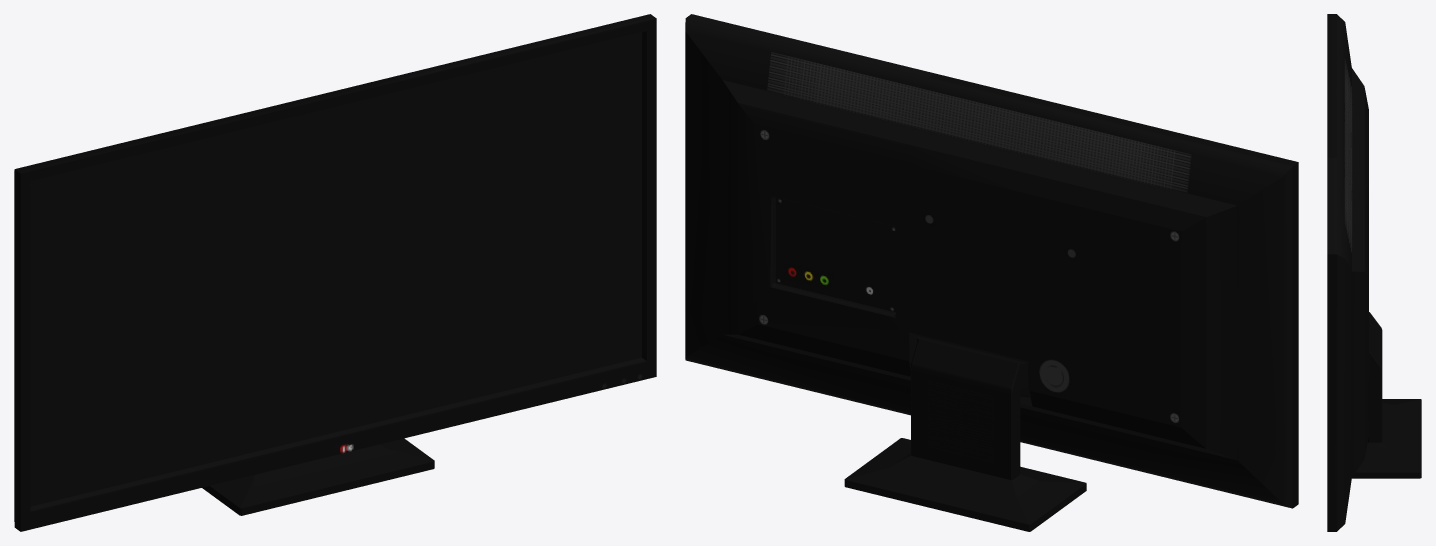
3 renders of one model, left to right at view 1: azimuth 30°, elevation 25°; view 2: azimuth 150°, elevation 25°; view 3: azimuth 270°, elevation 25°, orthographic. The views are drawn at different scales.
Parts seen in each view (by area): view 1: screen, led_tv_phong1_0.023, led_tv_phong1_0.041, led_tv_phong1_0.011, led_tv_phong1_0.024, led_tv_phong1_0.014, led_tv_phong1_0.025, led_tv_phong1_0.046; view 2: led_tv_phong1_0.012, led_tv_phong1_0.018, led_tv_phong1_0.015, led_tv_phong1_0.016, led_tv_phong1_0.017, led_tv_phong1_0.034, led_tv_phong1_0.054, led_tv_phong1_0.019, led_tv_phong1_0.041, led_tv_phong1_0.022, led_tv_phong1_0.011, led_tv_phong1_0.021 (+5 smaller); view 3: led_tv_phong1_0.017, led_tv_phong1_0.018, led_tv_phong1_0.041, led_tv_phong1_0.013, led_tv_phong1_0.019, led_tv_phong1_0.011, led_tv_phong1_0.012, led_tv_phong1_0.037, led_tv_phong1_0.034, led_tv_phong1_0.049, led_tv_phong1_0.071, led_tv.
Part boxes in pixels (bbox=[...]): screen: bbox=[30, 32, 641, 506]; led_tv_phong1_0.023: bbox=[20, 18, 656, 531]; led_tv_phong1_0.041: bbox=[210, 438, 434, 508]; led_tv_phong1_0.011: bbox=[15, 14, 656, 173]; led_tv_phong1_0.024: bbox=[30, 357, 646, 511]; led_tv_phong1_0.014: bbox=[14, 169, 20, 531]; led_tv_phong1_0.025: bbox=[642, 31, 646, 360]; led_tv_phong1_0.046: bbox=[242, 461, 433, 515]; led_tv_phong1_0.012: bbox=[738, 103, 1205, 427]; led_tv_phong1_0.018: bbox=[685, 18, 1292, 205]; led_tv_phong1_0.015: bbox=[1206, 167, 1292, 508]; led_tv_phong1_0.016: bbox=[685, 334, 1291, 508]; led_tv_phong1_0.017: bbox=[685, 31, 737, 357]; led_tv_phong1_0.034: bbox=[911, 339, 1018, 479]; led_tv_phong1_0.054: bbox=[776, 197, 895, 312]; led_tv_phong1_0.019: bbox=[723, 80, 1236, 216]; led_tv_phong1_0.041: bbox=[845, 438, 1086, 524]; led_tv_phong1_0.022: bbox=[1181, 217, 1206, 448]; led_tv_phong1_0.011: bbox=[686, 14, 1298, 166]; led_tv_phong1_0.021: bbox=[1030, 391, 1205, 448]; led_tv_phong1_0.017: bbox=[1337, 254, 1364, 531]; led_tv_phong1_0.018: bbox=[1337, 14, 1351, 271]; led_tv_phong1_0.041: bbox=[1356, 399, 1421, 472]; led_tv_phong1_0.013: bbox=[1327, 254, 1336, 531]; led_tv_phong1_0.019: bbox=[1352, 68, 1364, 271]; led_tv_phong1_0.011: bbox=[1327, 14, 1336, 254]; led_tv_phong1_0.012: bbox=[1364, 88, 1368, 457]; led_tv_phong1_0.037: bbox=[1369, 354, 1380, 442]; led_tv_phong1_0.034: bbox=[1370, 313, 1382, 368]; led_tv_phong1_0.049: bbox=[1352, 472, 1420, 478]; led_tv_phong1_0.071: bbox=[1365, 442, 1393, 455]; led_tv: bbox=[1369, 352, 1382, 442].
Size of the model in its own units: 13 by 7.75 by 2.15.
Materials: 1 (1 with a texture image).
